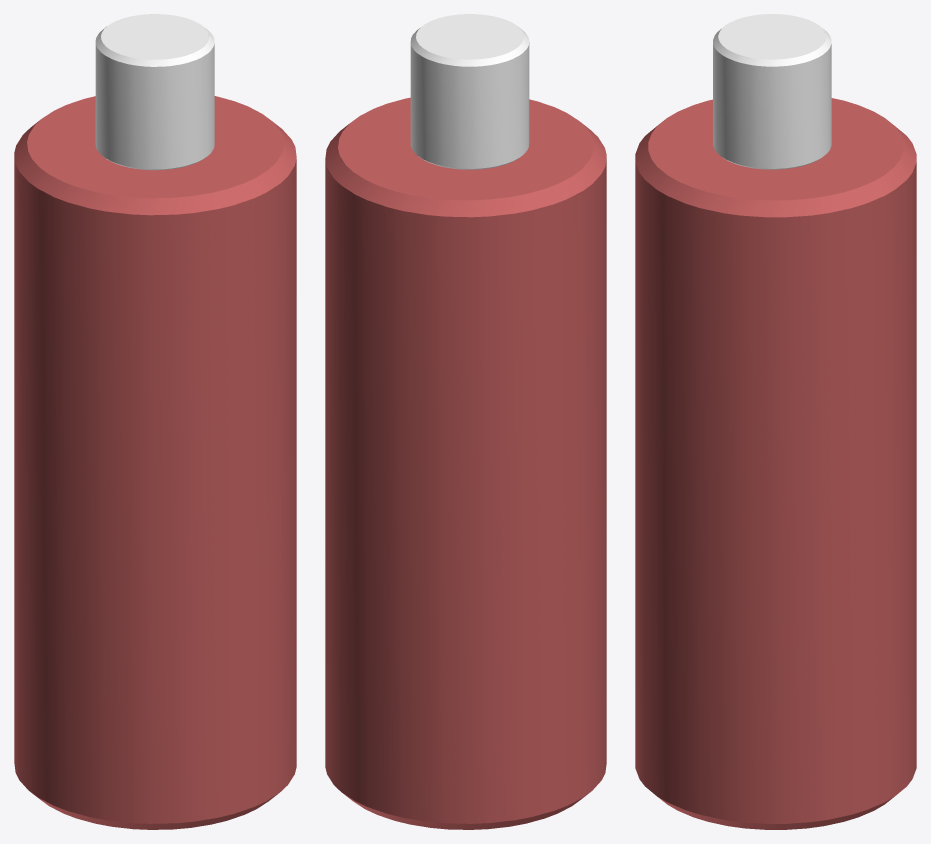
File: T_Bottle_pink.fbx
3 views of the same model, side by side, from view 1: azimuth 30°, elevation 25°; view 2: azimuth 150°, elevation 25°; view 3: azimuth 270°, elevation 25° (orthographic).
Visible parts, largest first — view 1: pCylinder2, pCylinder1; view 2: pCylinder2, pCylinder1; view 3: pCylinder2, pCylinder1.
Boxes of the visible parts, <box> form: pCylinder2: <box>14,96,296,829</box>; pCylinder1: <box>95,14,214,170</box>; pCylinder2: <box>325,97,606,829</box>; pCylinder1: <box>410,14,529,169</box>; pCylinder2: <box>635,98,916,829</box>; pCylinder1: <box>713,14,831,169</box>.
Size of the model in its own units: 2.35 by 6.8 by 2.35.
2 materials, 2 textured.
